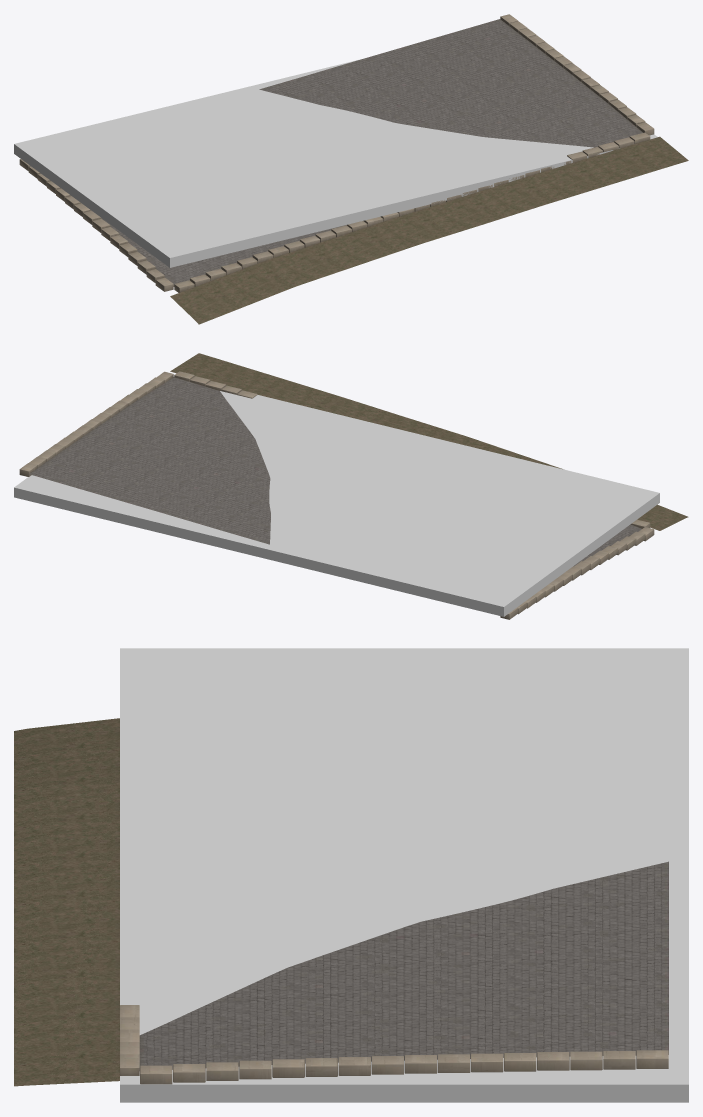
Rendered from p7_paving.glb.
3 views of the same model, one above another, from view 1: azimuth 30°, elevation 25°; view 2: azimuth 150°, elevation 25°; view 3: azimuth 270°, elevation 25° (orthographic). The views are drawn at different scales.
Visible parts, largest first — view 1: p7_paving_COL, p7_paving_LOD0; view 2: p7_paving_COL, p7_paving_LOD0; view 3: p7_paving_COL, p7_paving_LOD0.
Part boxes in pixels (left/top/right/bottom): p7_paving_COL: left=14, top=59, right=657, bottom=267; p7_paving_LOD0: left=19, top=14, right=688, bottom=324; p7_paving_COL: left=14, top=374, right=659, bottom=616; p7_paving_LOD0: left=19, top=353, right=688, bottom=619; p7_paving_COL: left=120, top=648, right=688, bottom=1102; p7_paving_LOD0: left=14, top=718, right=668, bottom=1086.
Size of what is drawn, in the model's own units: 15.6 by 1.82 by 10.2.
Materials: 1 (1 with a texture image).
